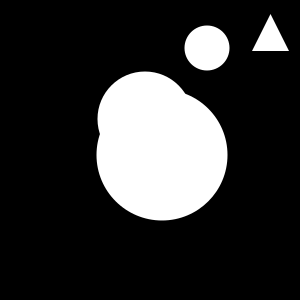rectangle: (97, 90, 228, 221), (98, 72, 192, 166), (184, 26, 229, 70)
triangle: (252, 14, 289, 51)
